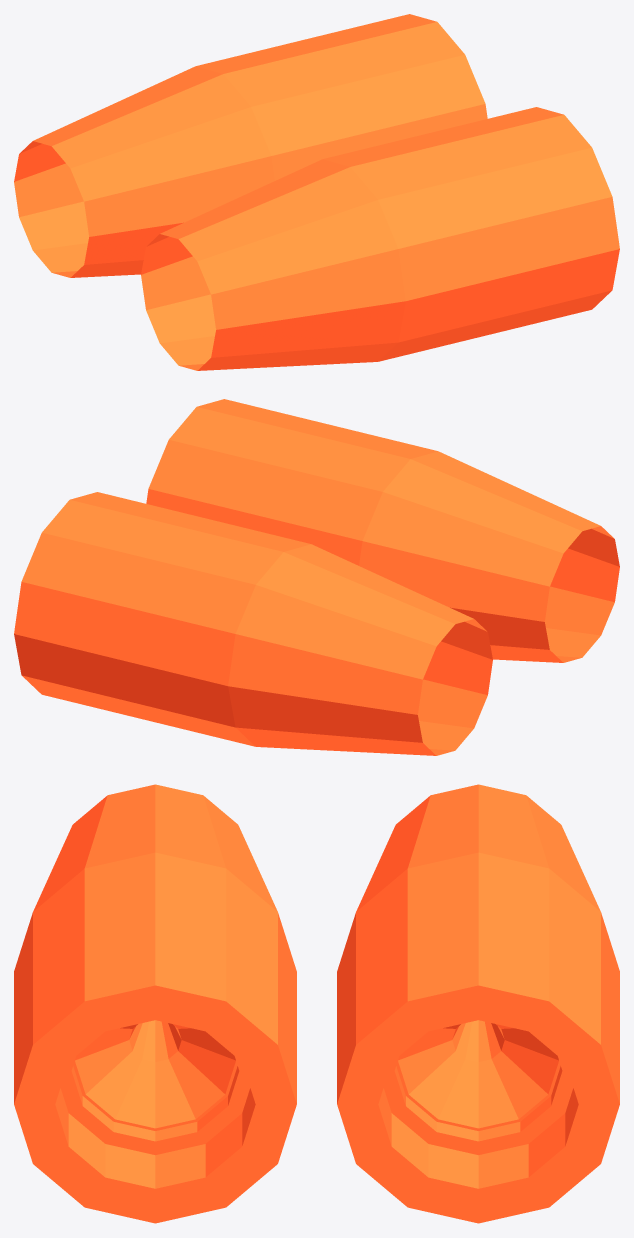
Rendered from f18Afterburner.glb.
The picture shows the model from 3 angles, top to bottom: view 1: azimuth 30°, elevation 25°; view 2: azimuth 150°, elevation 25°; view 3: azimuth 270°, elevation 25°; orthographic projection. The views are drawn at different scales.
Visible parts, largest first — view 1: Object_1 1; view 2: Object_1 1; view 3: Object_1 1.
Part boxes in pixels (x1,y1,x2,y2): Object_1 1: (14,14,619,370); Object_1 1: (14,399,619,755); Object_1 1: (14,784,619,1223).
Size of the model in its own units: 1.74 by 0.8051 by 1.86.
